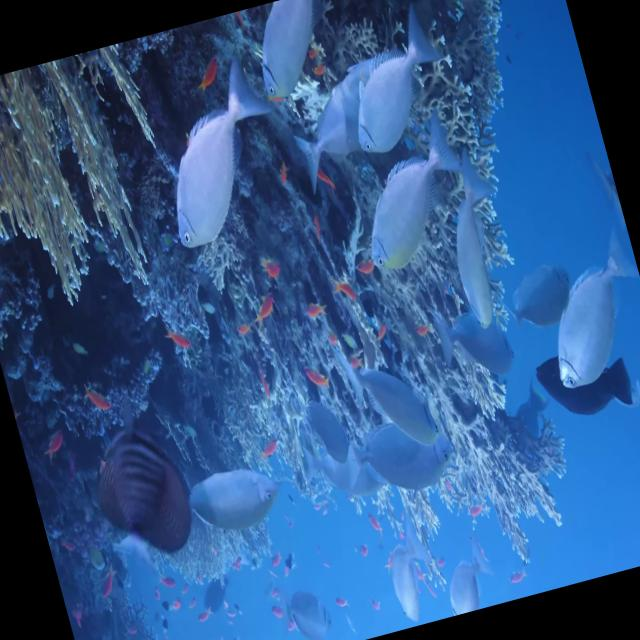fish: (140, 65, 290, 258), (339, 117, 478, 280), (523, 224, 640, 398), (331, 12, 452, 160), (429, 157, 525, 339), (284, 60, 408, 192), (336, 396, 467, 515), (347, 322, 452, 460), (242, 0, 344, 109), (533, 334, 640, 431), (180, 452, 291, 544), (432, 296, 522, 387), (434, 539, 500, 616)
